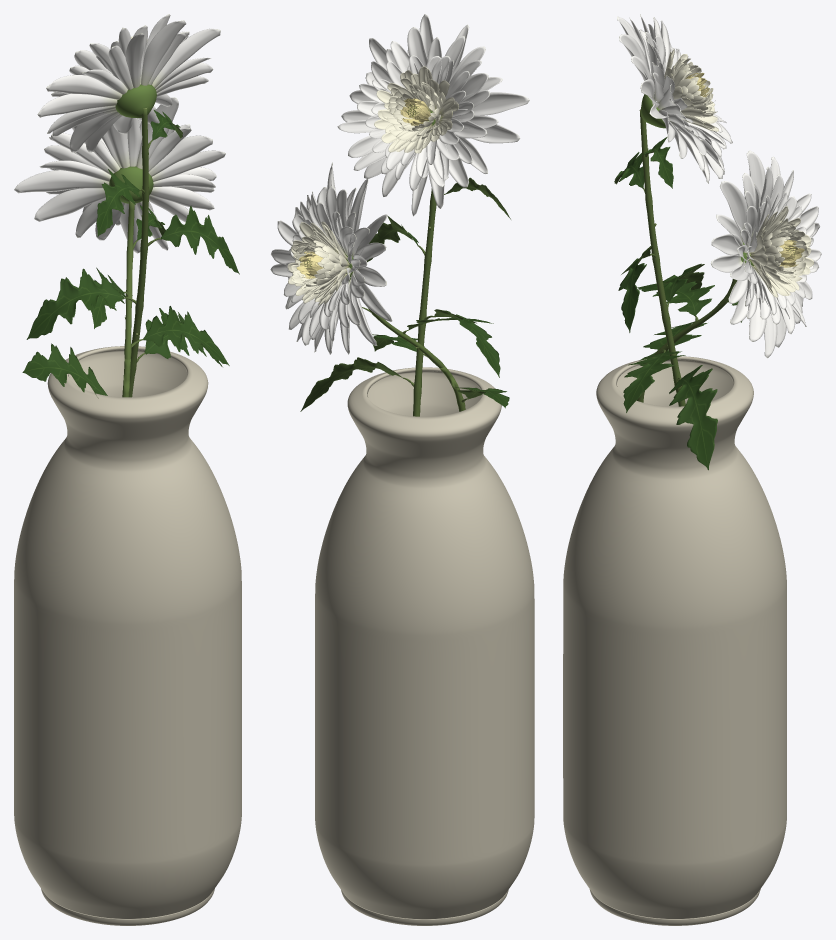
File: Flower1.fbx
3 views of the same model, side by side, from view 1: azimuth 30°, elevation 25°; view 2: azimuth 150°, elevation 25°; view 3: azimuth 270°, elevation 25° (orthographic). The views are drawn at different scales.
Parts seen in each view (by area): view 1: Circle, White_Chrysanthemum_Head.003, White_Chrysanthemum_Head.001, Chrysanthemum_Stem_Leaves.001, Chrysanthemum_Stem_Leaves; view 2: Circle, White_Chrysanthemum_Head.001, White_Chrysanthemum_Head.003, Chrysanthemum_Stem_Leaves.001, Chrysanthemum_Stem_Leaves; view 3: Circle, White_Chrysanthemum_Head.003, White_Chrysanthemum_Head.001, Chrysanthemum_Stem_Leaves.001, Chrysanthemum_Stem_Leaves.
Boxes of the visible parts, box(x1,y1,x2,y2) form: Circle: box(14, 346, 241, 925); White_Chrysanthemum_Head.003: box(14, 97, 225, 253); White_Chrysanthemum_Head.001: box(37, 14, 220, 152); Chrysanthemum_Stem_Leaves.001: box(26, 108, 239, 397); Chrysanthemum_Stem_Leaves: box(22, 201, 229, 398); Circle: box(315, 367, 534, 925); White_Chrysanthemum_Head.001: box(337, 14, 529, 216); White_Chrysanthemum_Head.003: box(270, 162, 392, 354); Chrysanthemum_Stem_Leaves.001: box(300, 177, 510, 416); Chrysanthemum_Stem_Leaves: box(362, 307, 509, 411); Circle: box(563, 356, 786, 925); White_Chrysanthemum_Head.003: box(711, 150, 821, 357); White_Chrysanthemum_Head.001: box(617, 14, 732, 183); Chrysanthemum_Stem_Leaves.001: box(614, 109, 717, 470); Chrysanthemum_Stem_Leaves: box(623, 279, 741, 412).
Bounding box in the file's own units: 304 × 1153 × 311.
